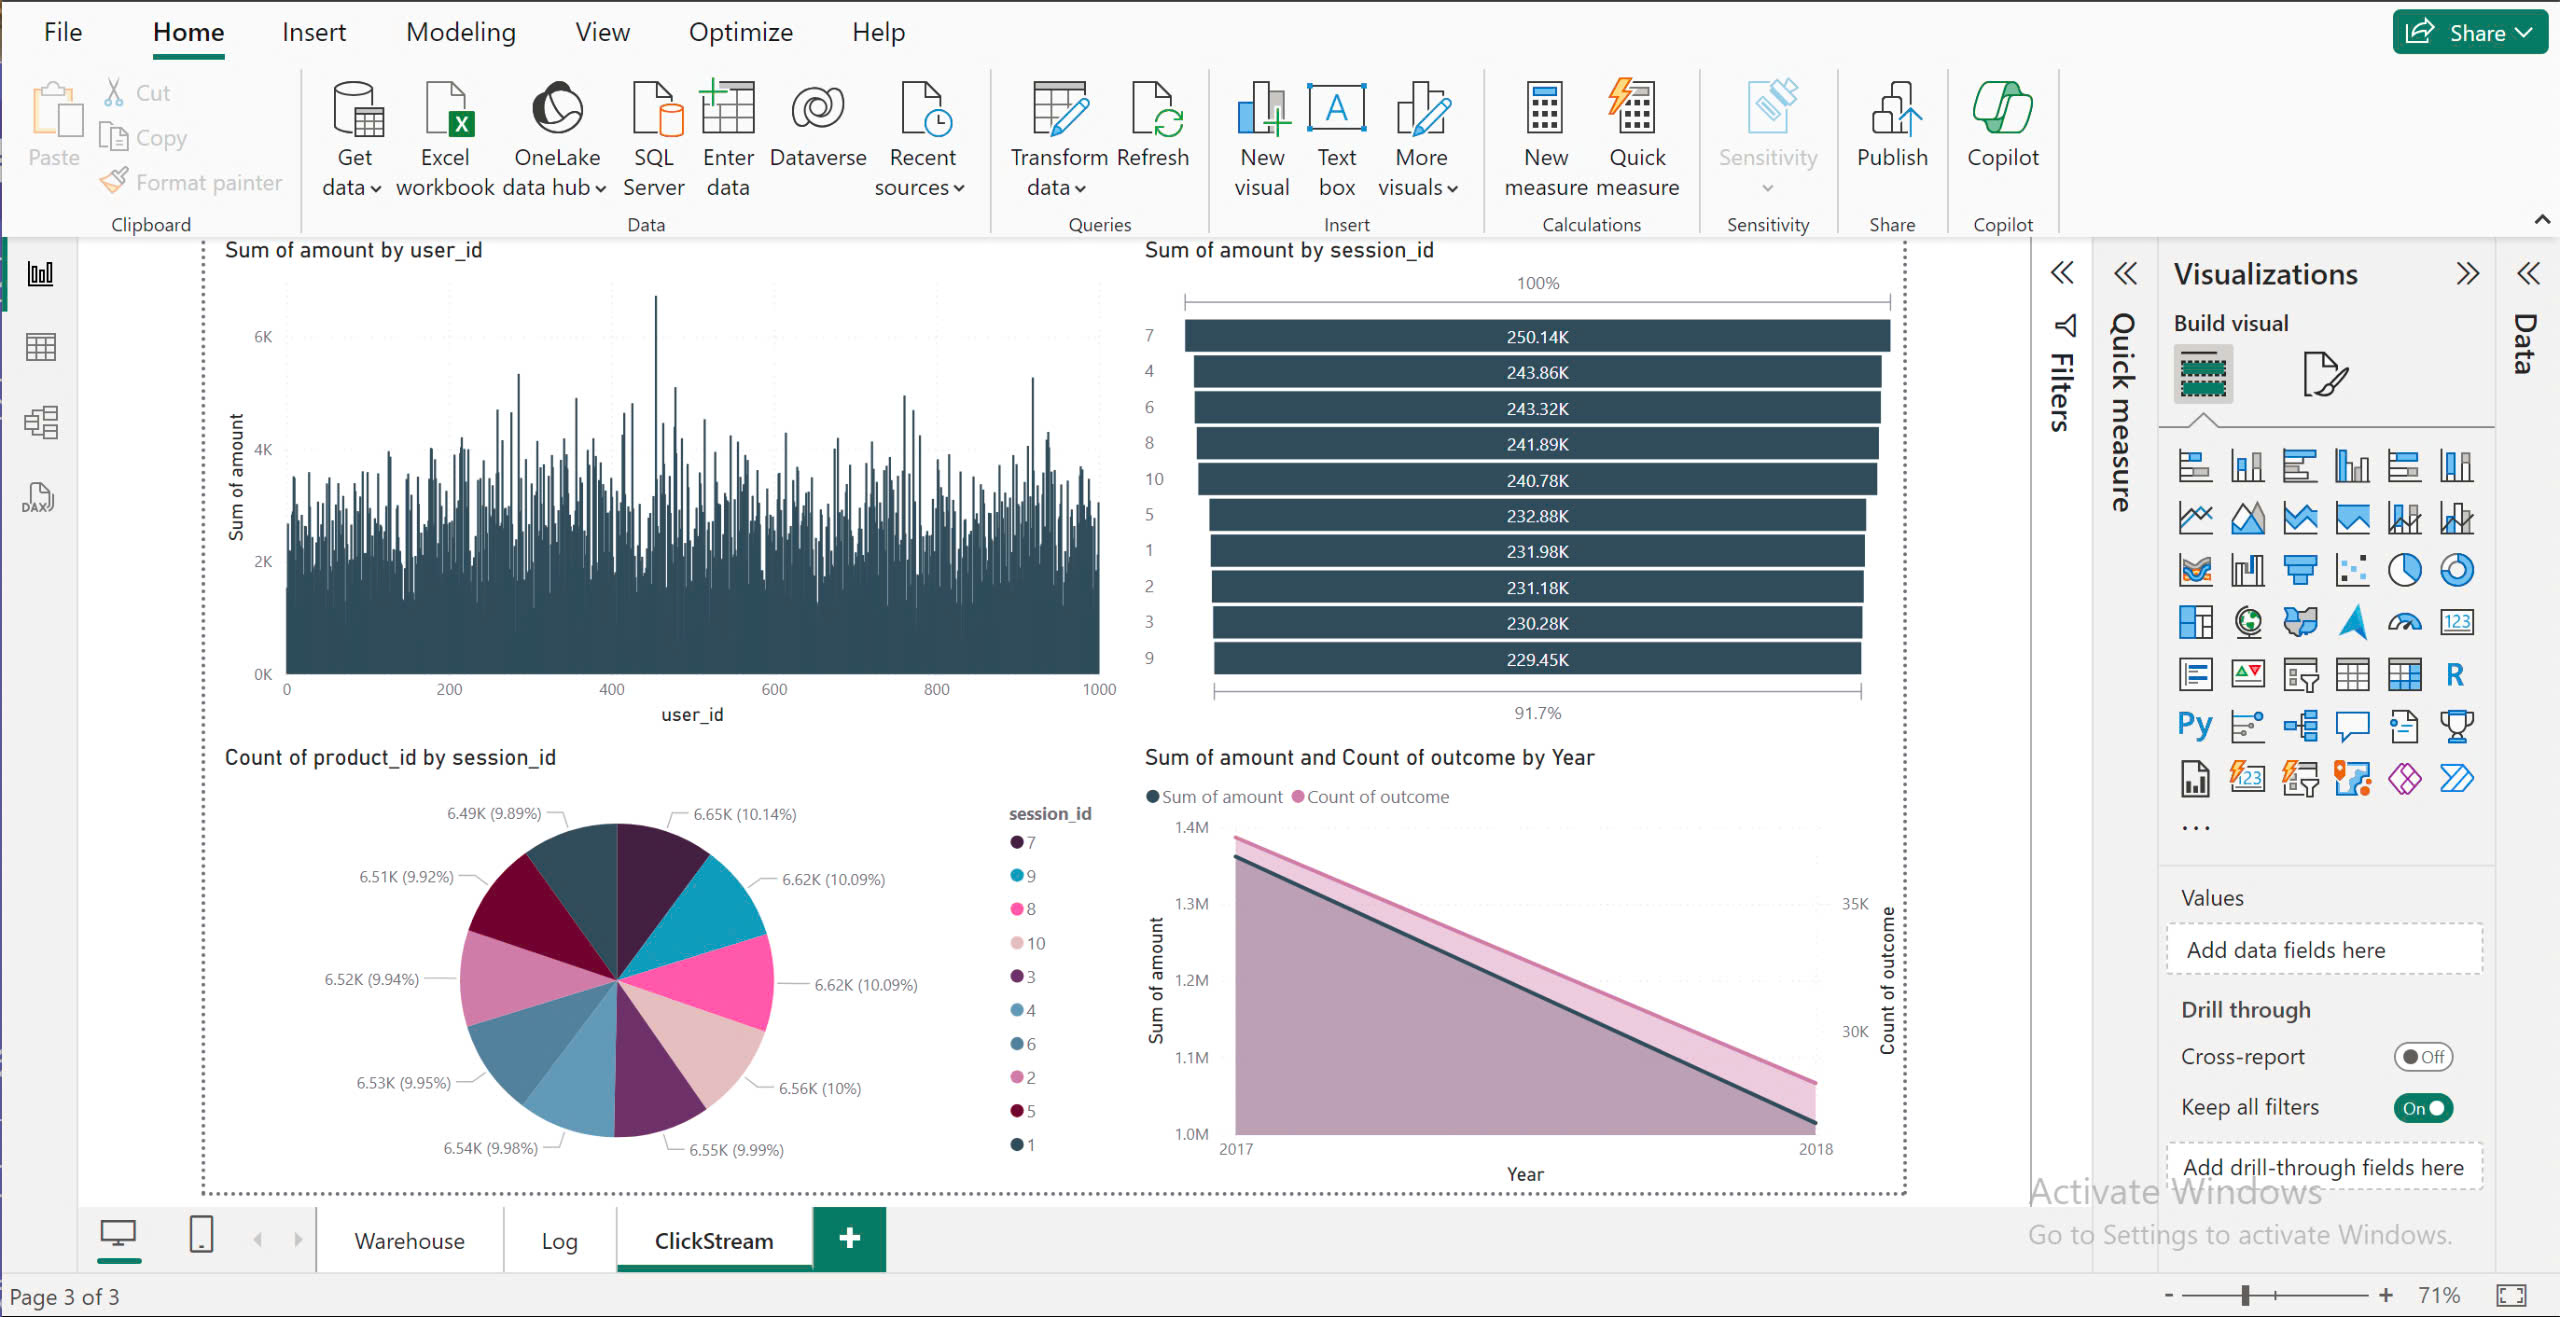

The page's visual inventory and layout, read from the dashboard file:
{"tool":"powerbi","page":{"name":"ClickStream","canvas":[1280,720],"ordinal":2},"visuals":[{"type":"columnChart","fields":{"Y":["Sum(clickstream.amount)"],"Category":["clickstream.user_id"]},"box":[10.4,0,683.3,373],"z":0},{"type":"pieChart","fields":{"Category":["clickstream.session_id"],"Y":["CountNonNull(clickstream.product_id)"]},"box":[10,383,683,337],"z":1},{"type":"funnel","fields":{"Y":["Sum(clickstream.amount)"],"Category":["clickstream.session_id"]},"box":[703,0,577,373],"z":2},{"type":"areaChart","fields":{"Category":["clickstream.timestamp.Variation.Date Hierarchy.Year"],"Y":["Sum(clickstream.amount)"],"Y2":["CountNonNull(clickstream.outcome)"]},"box":[703,383,577,337],"z":3}]}

Visuals, with their boxes on the page's 1280x720 design canvas (x1, y1, x2, y2). These are canvas units, not pixel positions in the 2560x1317 screenshot, which may show the page scaled, cropped or inside an application window:
columnChart - Sum(clickstream.amount) x clickstream.user_id: bbox(10, 0, 694, 373)
pieChart - clickstream.session_id x CountNonNull(clickstream.product_id): bbox(10, 383, 693, 720)
funnel - Sum(clickstream.amount) x clickstream.session_id: bbox(703, 0, 1280, 373)
areaChart - clickstream.timestamp.Variation.Date Hierarchy.Year x Sum(clickstream.amount): bbox(703, 383, 1280, 720)
